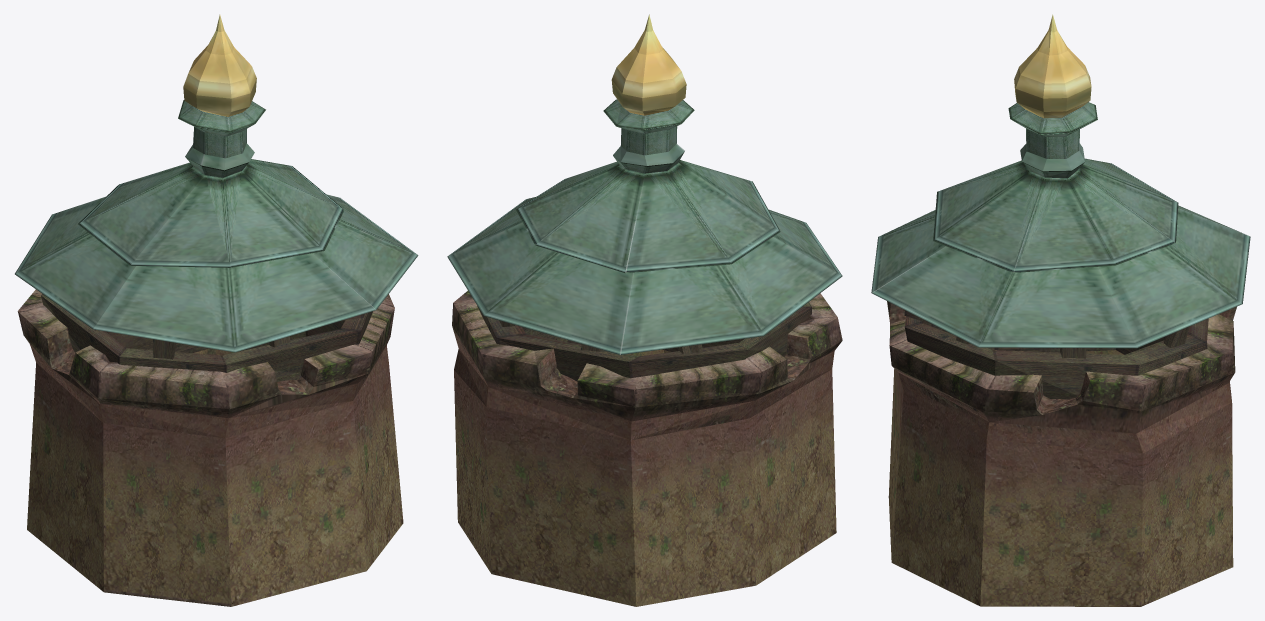
File: C1SMBASNH.obj
3 renders of one model, left to right at view 1: azimuth 30°, elevation 25°; view 2: azimuth 150°, elevation 25°; view 3: azimuth 270°, elevation 25°, orthographic.
Visible parts, largest first — view 1: Node 0; view 2: Node 0; view 3: Node 0.
Boxes of the visible parts, <box> form: Node 0: <box>15,14,418,606</box>; Node 0: <box>447,14,842,606</box>; Node 0: <box>871,14,1250,606</box>.
Bounding box in the file's own units: 10.55 × 16.17 × 10.68.
Materials: 5 (5 with a texture image).
